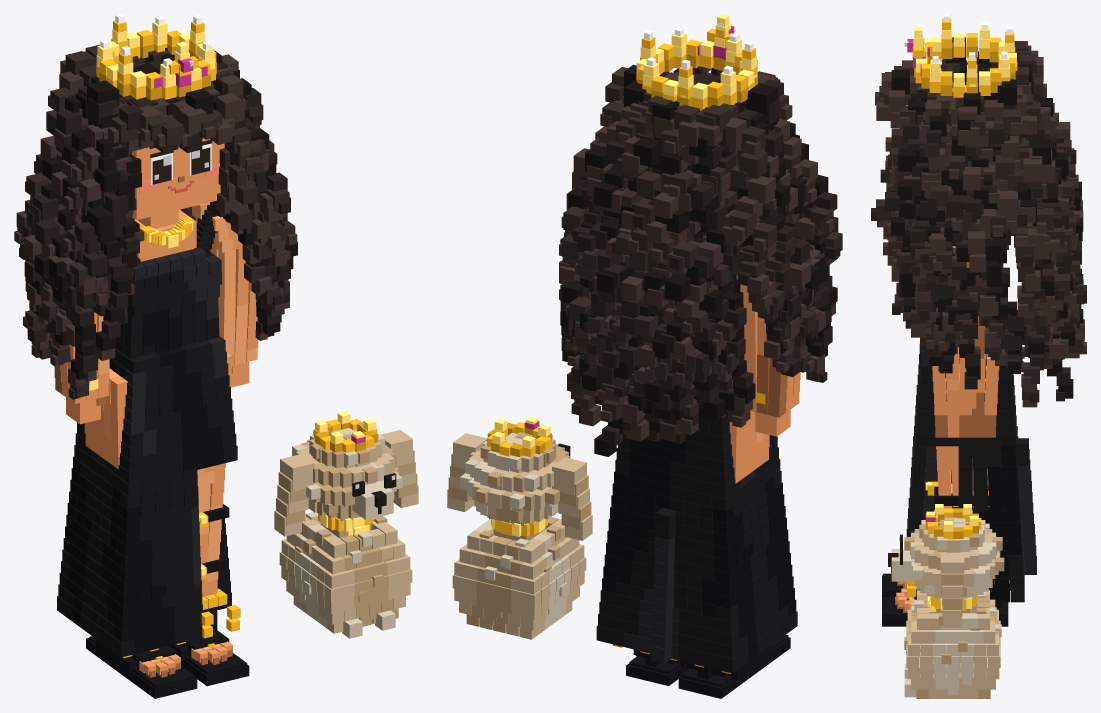
File: dayra-especial.cb64a56f.glb
3 views of the same model, side by side, from view 1: azimuth 30°, elevation 25°; view 2: azimuth 150°, elevation 25°; view 3: azimuth 270°, elevation 25° (orthographic). The views are drawn at different scales.
Visible parts, largest first — view 1: dress_black, hair_light, dress_deep, hair_black, skin_warm, hair_deep, hair_brown, dog_beige, dog_shade, dress_char, gold, heel_black (+7 smaller); view 2: hair_light, dress_black, hair_brown, hair_black, hair_deep, dress_deep, dog_beige, dog_shade, gold, dog_light, skin_warm, dress_char (+4 smaller); view 3: hair_light, hair_deep, hair_brown, hair_black, dog_beige, dress_black, dog_light, skin_warm, dress_deep, gold, gold_light, dog_shade (+5 smaller).
Part boxes in pixels (box(x1,y1,x2,y2)): dress_black: box(57, 204, 237, 657); hair_light: box(14, 54, 297, 387); dress_deep: box(63, 309, 223, 653); hair_black: box(19, 60, 290, 399); skin_warm: box(61, 97, 258, 675); hair_deep: box(27, 47, 297, 380); hair_brown: box(17, 44, 295, 398); dog_beige: box(274, 430, 418, 633); dog_shade: box(276, 434, 417, 626); dress_char: box(91, 247, 228, 612); gold: box(96, 20, 377, 660); heel_black: box(86, 504, 249, 698); hair_light: box(559, 60, 837, 441); dress_black: box(596, 274, 797, 673); hair_brown: box(560, 71, 842, 442); hair_black: box(560, 71, 840, 446); hair_deep: box(560, 64, 837, 456); dress_deep: box(602, 274, 796, 661); dog_beige: box(447, 432, 592, 639); dog_shade: box(448, 432, 591, 633); gold: box(487, 28, 765, 536); dog_light: box(460, 432, 571, 629); skin_warm: box(729, 275, 800, 483); dress_char: box(624, 358, 755, 663); hair_light: box(875, 50, 1086, 407); hair_deep: box(887, 37, 1083, 398); hair_brown: box(876, 41, 1083, 399); hair_black: box(871, 59, 1086, 402); dog_beige: box(906, 517, 1000, 698); dress_black: box(906, 238, 1029, 602); dog_light: box(891, 518, 1001, 697); skin_warm: box(896, 85, 999, 611); dress_deep: box(906, 326, 1021, 602); gold: box(907, 18, 1017, 610); gold_light: box(913, 26, 1016, 611); dog_shade: box(904, 520, 1004, 698).
Bounding box in the file's own units: 1.04 × 1.7 × 0.577.
